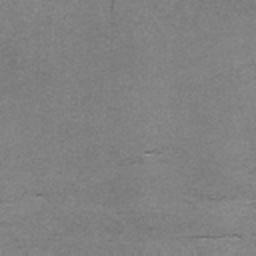Finishing roll printing: (195, 192, 256, 206), (192, 232, 242, 241), (31, 189, 50, 198), (143, 148, 163, 156)
